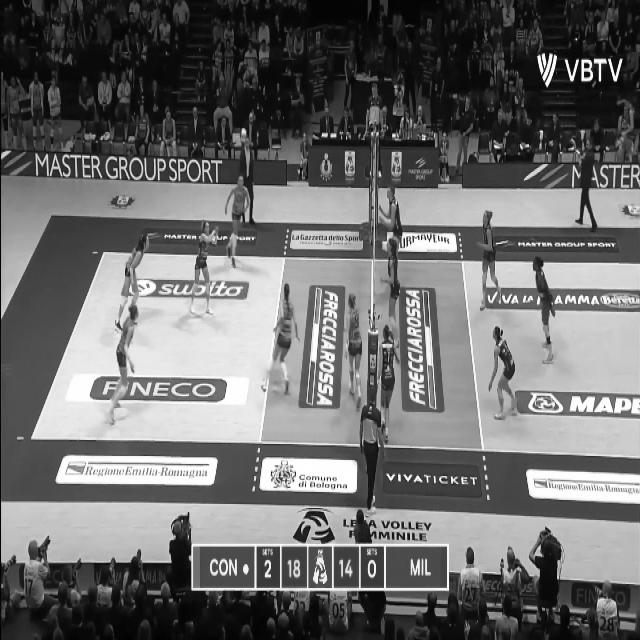volleyball court: (30, 247, 638, 463)
